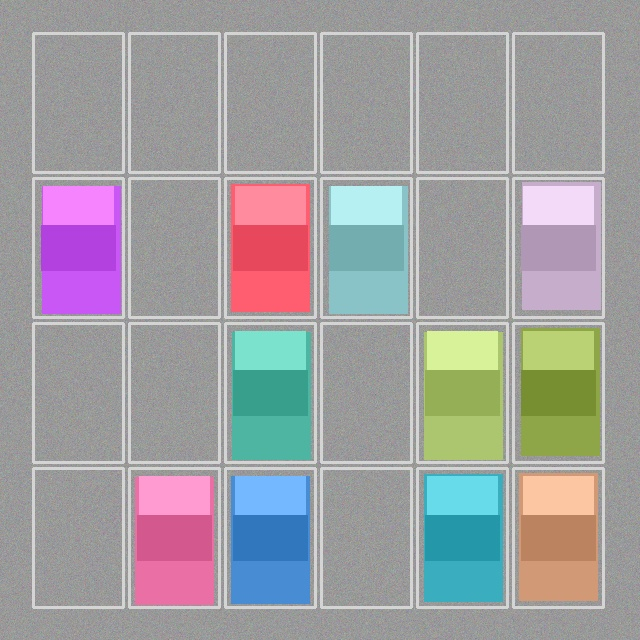space-empty: (35, 35, 121, 170), (131, 35, 217, 170), (227, 35, 313, 170), (323, 35, 409, 170), (419, 35, 505, 170), (515, 35, 601, 170), (131, 180, 217, 315), (419, 180, 505, 315), (35, 325, 121, 460), (131, 325, 217, 460), (323, 325, 409, 460), (35, 470, 121, 605), (323, 470, 409, 605)
space-occupied: (35, 180, 121, 315), (227, 180, 313, 315), (323, 180, 409, 315), (515, 180, 601, 315), (227, 325, 313, 460), (419, 325, 505, 460), (515, 325, 601, 460), (131, 470, 217, 605), (227, 470, 313, 605), (419, 470, 505, 605), (515, 470, 601, 605)
